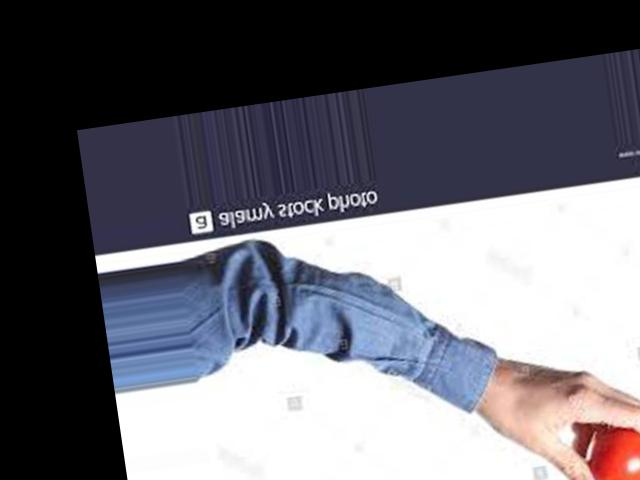tomato: (587, 425, 640, 480)
